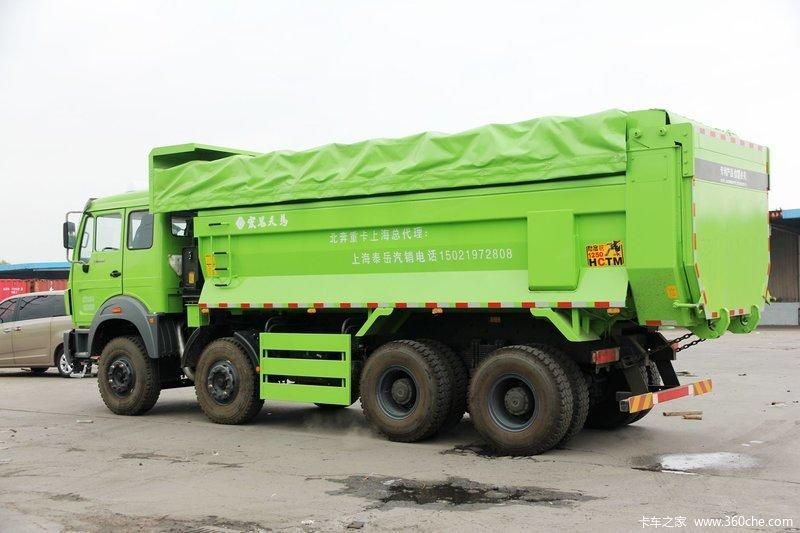truck: (57, 89, 771, 460)
